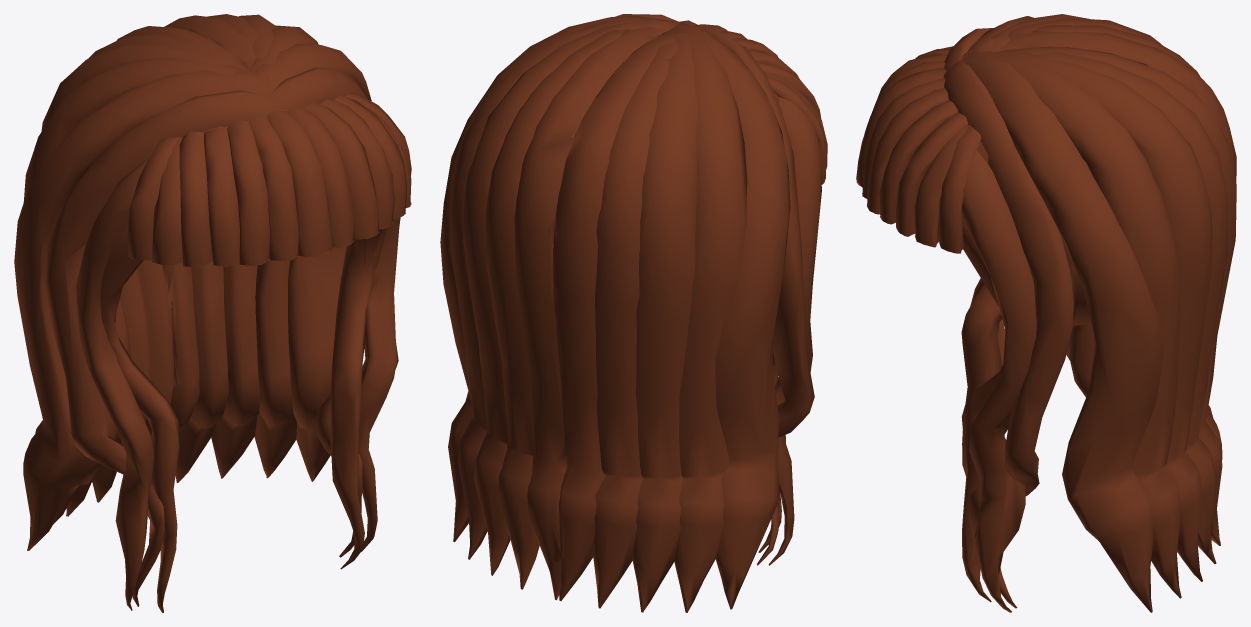
File: hair-1-681e48cc.glb
3 renders of one model, left to right at view 1: azimuth 30°, elevation 25°; view 2: azimuth 150°, elevation 25°; view 3: azimuth 270°, elevation 25°, orthographic. The views are drawn at different scales.
Parts seen in each view (by area): view 1: hair_1.001; view 2: hair_1.001; view 3: hair_1.001.
Boxes of the visible parts, x1,y1,x2,y2 form: hair_1.001: (14,14,411,612); hair_1.001: (440,14,827,612); hair_1.001: (856,14,1236,612).
Bounding box in the file's own units: 2.09 × 3.12 × 2.08.
